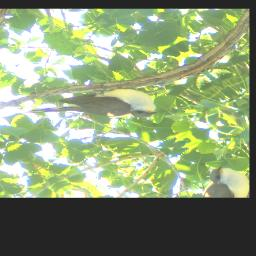Cuckoo: (19, 65, 166, 157)
